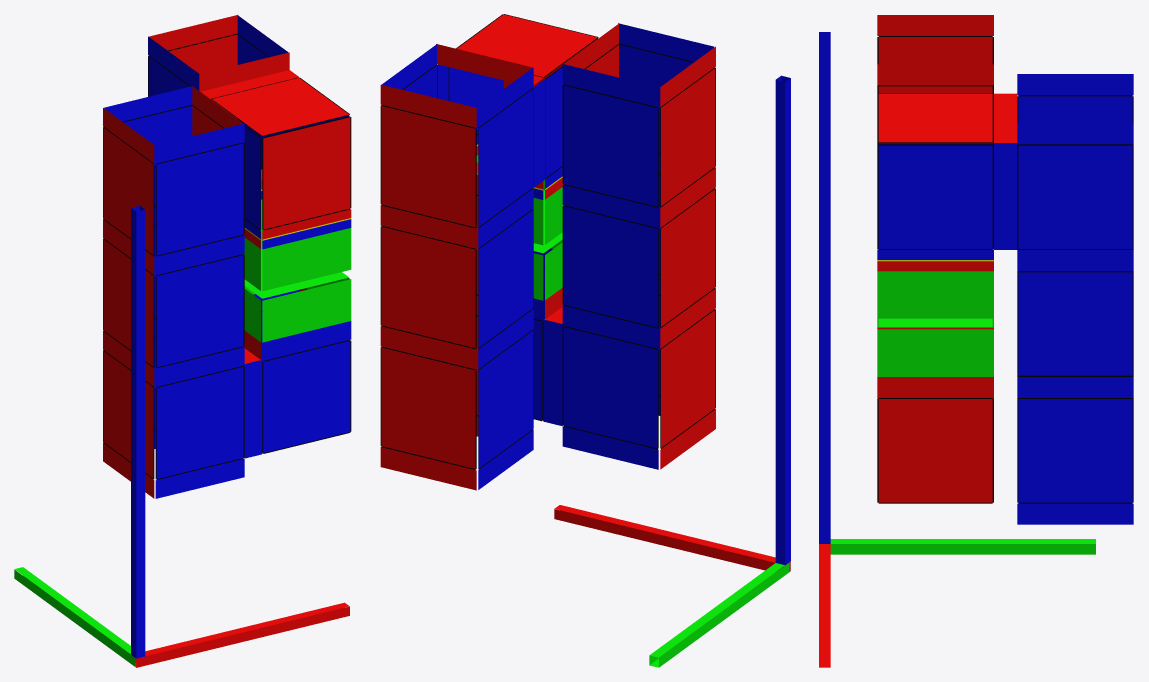
The model's file is s_from_y.gltf.
3 views of the same model, side by side, from view 1: azimuth 30°, elevation 25°; view 2: azimuth 150°, elevation 25°; view 3: azimuth 270°, elevation 25° (orthographic). The views are drawn at different scales.
Parts seen in each view (by area): view 1: spider(0, 0, 2):-J, spider(0, 0, 3):-J, spider(0, 0, 1):-J, spider(1, 0, 1):-J, spider(1, 0, 3):-J, spider(1, 0, 3):+K, axisK:-J, spider(0, 0, 3):-I, spider(1, 0, 2):bottom:-J, spider(1, 0, 2):top:-J, spider(0, 0, 1):-I, spider(0, 0, 2):-I (+32 smaller); view 2: spider(0, 0, 2):+J, spider(1, 1, 1):+J, spider(1, 1, 3):+J, spider(0, 0, 1):+J, spider(0, 0, 3):+J, spider(1, 1, 2):+J, spider(1, 1, 1):-I, spider(0, 0, 3):-I, spider(1, 1, 2):-I, spider(1, 1, 3):-I, spider(0, 0, 1):-I, spider(0, 0, 2):-I (+37 smaller); view 3: spider(1, 0, 1):+I, spider(1, 0, 3):+I, spider(1, 1, 1):+I, spider(1, 1, 2):+I, spider(1, 1, 3):+I, axisK:+I, spider(1, 0, 3):+K, spider(1, 0, 2):top:+I, spider(1, 0, 2):bottom:+I, spider(1, 1, 3):-I, spider(0, 0, 3):-I, axisJ:+I (+15 smaller).
Boxes of the visible parts, box(x1,y1,x2,y2) form: spider(0, 0, 2):-J: box(155, 254, 244, 368); spider(0, 0, 3):-J: box(155, 142, 244, 256); spider(0, 0, 1):-J: box(155, 366, 244, 479); spider(1, 0, 1):-J: box(262, 340, 351, 453); spider(1, 0, 3):-J: box(262, 116, 351, 230); spider(1, 0, 3):+K: box(211, 77, 349, 135); axisK:-J: box(136, 209, 145, 658); spider(0, 0, 3):-I: box(103, 126, 154, 255); spider(1, 0, 2):bottom:-J: box(262, 279, 351, 342); spider(1, 0, 2):top:-J: box(262, 228, 351, 291); spider(0, 0, 1):-I: box(103, 350, 154, 479); spider(0, 0, 2):-I: box(103, 238, 154, 367); spider(0, 0, 2):+J: box(562, 205, 658, 328); spider(1, 1, 1):+J: box(380, 346, 476, 469); spider(1, 1, 3):+J: box(380, 105, 476, 228); spider(0, 0, 1):+J: box(562, 326, 658, 449); spider(0, 0, 3):+J: box(562, 84, 658, 207); spider(1, 1, 2):+J: box(380, 225, 476, 349); spider(1, 1, 1):-I: box(478, 329, 533, 469); spider(0, 0, 3):-I: box(660, 67, 715, 206); spider(1, 1, 2):-I: box(478, 209, 533, 348); spider(1, 1, 3):-I: box(478, 88, 533, 227); spider(0, 0, 1):-I: box(660, 309, 715, 448); spider(0, 0, 2):-I: box(660, 188, 715, 327); spider(1, 0, 1):+I: box(877, 398, 993, 503); spider(1, 0, 3):+I: box(877, 144, 993, 249); spider(1, 1, 1):+I: box(1017, 398, 1133, 503); spider(1, 1, 2):+I: box(1017, 271, 1133, 376); spider(1, 1, 3):+I: box(1017, 144, 1133, 249); axisK:+I: box(819, 37, 830, 543); spider(1, 0, 3):+K: box(877, 93, 993, 142); spider(1, 0, 2):top:+I: box(877, 271, 993, 318); spider(1, 0, 2):bottom:+I: box(877, 329, 993, 376); spider(1, 1, 3):-I: box(1017, 95, 1133, 145); spider(0, 0, 3):-I: box(877, 36, 993, 86); axisJ:+I: box(830, 544, 1095, 554).
Size of the model in its own units: 2.71 by 5.3 by 2.71.
